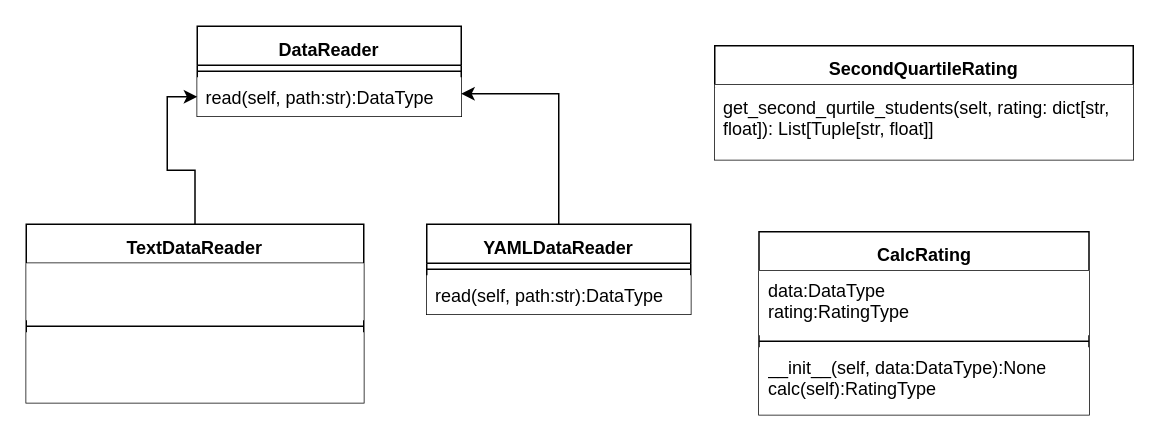
The diagram is 1160 pixels wide and 446 high, and some of its shapes have lost their labels. The shapes that lost their labels are listed below. From the top down, each one's centre as x and y in pixels, then its label:
At [194,291]: "key:list students:dict".
At [194,367]: "__init__(self):None read(self, path:str):DataType".
